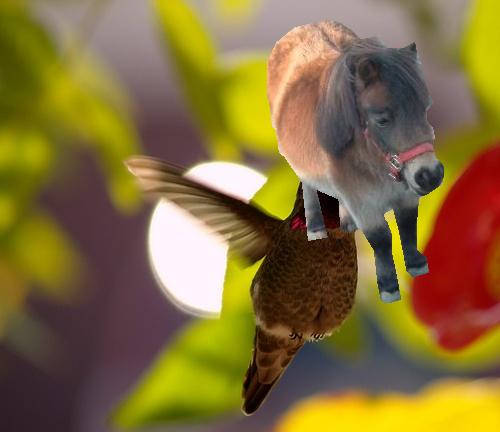tampered: (268, 20, 444, 303)
